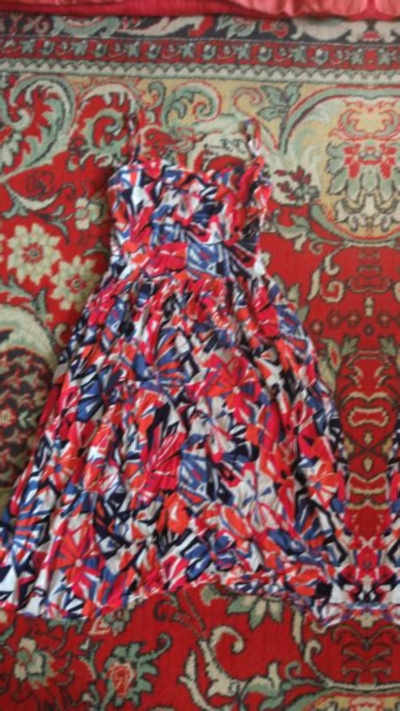Dress: (33, 104, 361, 662), (376, 106, 400, 664)
